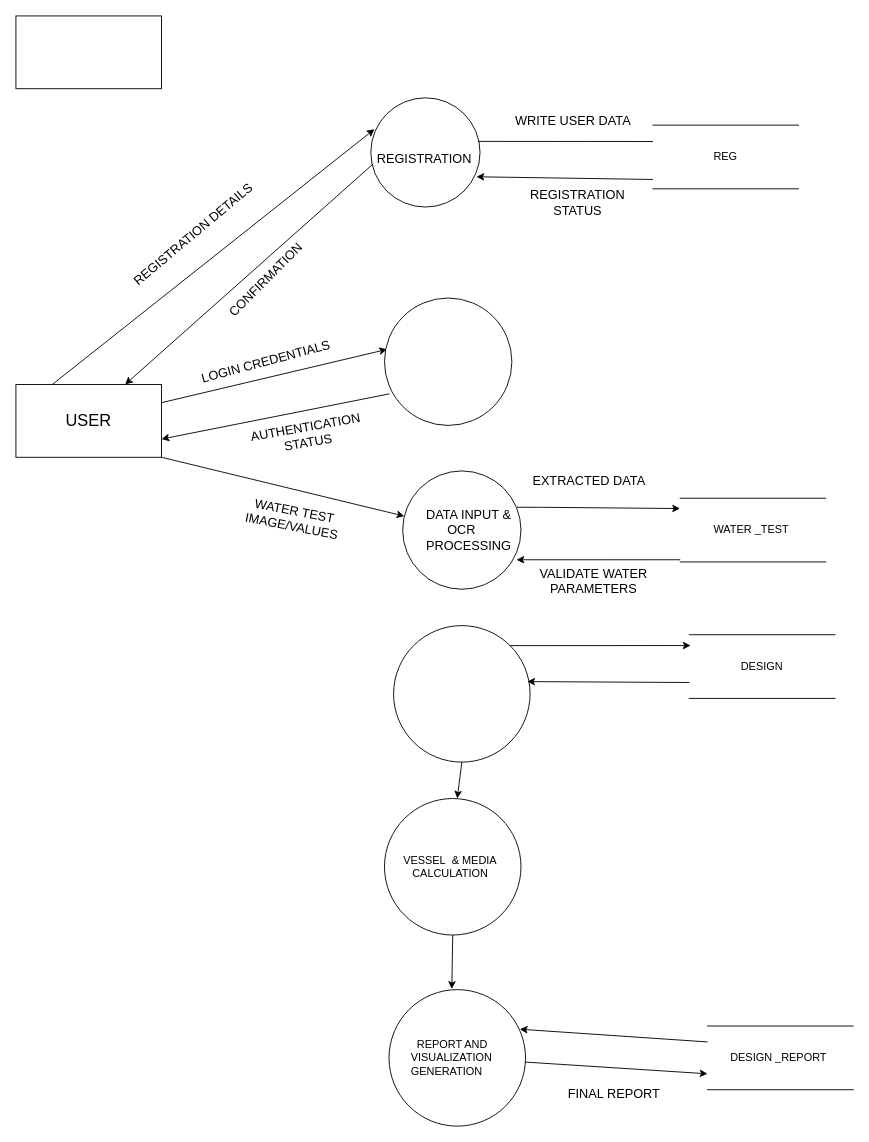
This 869x1142 diagram has some shape labels left out. The shapes that lost their labels are listed below. From the top down, each one's centre as x and y in pixels, then its label:
pixel 88 52: ADMIN
pixel 448 361: AI ASSISTANT AUTHENTICATION
pixel 461 693: FILTRATION DESIGN LOGIC ENGINE
